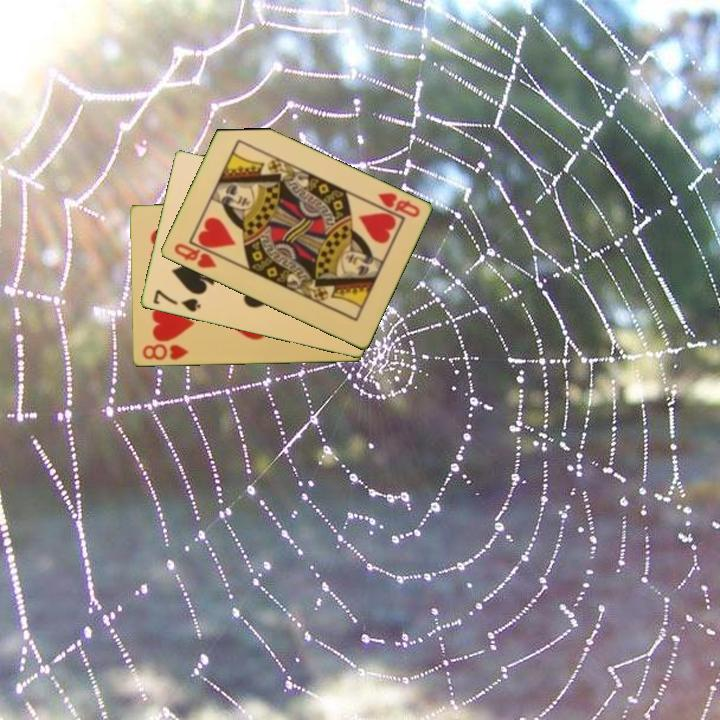7s: (149, 286, 203, 315)
8h: (139, 341, 192, 363)
Qh: (170, 240, 219, 271), (374, 189, 422, 220)
